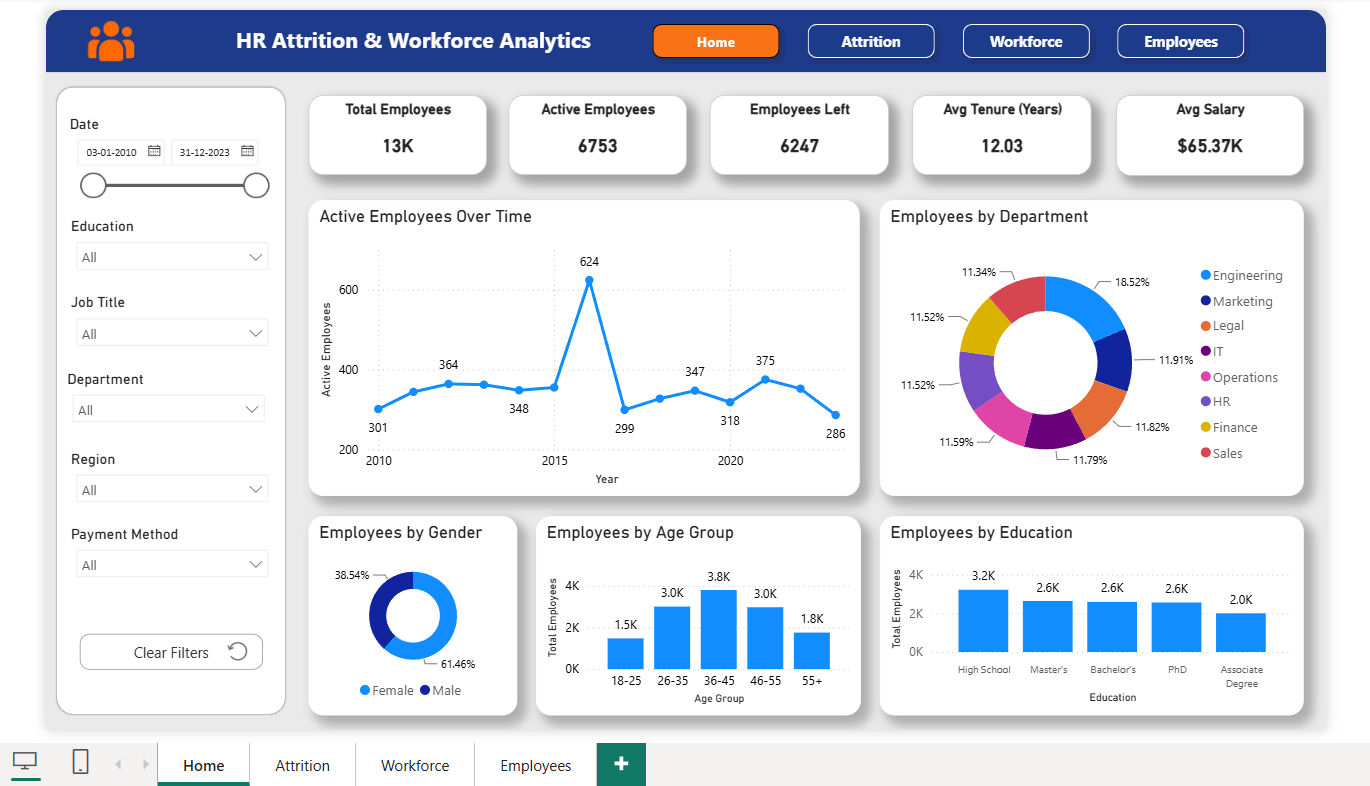

This screenshot's page, from the dashboard's own definition file:
{"tool":"powerbi","page":{"name":" Home","canvas":[1280,720],"ordinal":0},"visuals":[{"type":"shape","box":[0,0,1280,62.5],"z":0},{"type":"image","box":[8.8,7.5,112.5,47.5],"z":1000},{"type":"textbox","box":[165,7.5,423.8,97.5],"z":2000},{"type":"pageNavigator","box":[597.5,5,613.8,52.5],"z":3000},{"type":"shape","box":[8.8,75,232.5,631.2],"z":4000},{"type":"slicer","title":"Date","fields":{"Values":["Dim_Date.Full_Date"]},"box":[19.3,105,212.5,86.2],"z":5000},{"type":"slicer","title":"Education","fields":{"Values":["Dim_Education.Education"]},"box":[19.5,207.3,212.5,91.2],"z":6000},{"type":"slicer","title":"Job Title","fields":{"Values":["Dim_Job_Title.Job_Title"]},"box":[19.5,283.8,212.5,91.2],"z":7000},{"type":"slicer","title":"Payment Method","fields":{"Values":["Dim_Payment_Method.Payment_Method"]},"box":[19.5,514.8,212.3,91.7],"z":8000},{"type":"slicer","title":"Region","fields":{"Values":["Dim_Region.Region"]},"box":[19.5,439.7,212.3,91.7],"z":9000},{"type":"card","title":"Total Employees","fields":{"Values":["MeasuresT.Total Employees"]},"box":[263,84.9,178,80],"z":10000},{"type":"card","title":"Active Employees","fields":{"Values":["MeasuresT.Active Employees"]},"box":[461.9,84.9,178,80],"z":11000},{"type":"actionButton","box":[33.4,623.3,183.4,36.2],"z":11000,"group":"g1"},{"type":"card","title":"Employees Left","fields":{"Values":["MeasuresT.Employees Left"]},"box":[663.7,84.9,179,80],"z":12000},{"type":"card","title":"Avg Tenure (Years)","fields":{"Values":["Avg(Fact_Employee_Attrition.Years_At_Company)"]},"box":[866.8,84.9,179,80],"z":13000},{"type":"card","title":"Avg Salary","fields":{"Values":["Avg(Fact_Employee_Attrition.Salary)"]},"box":[1069.9,84.9,187.8,80.7],"z":14000},{"type":"lineChart","title":"Active Employees Over Time","fields":{"Y":["MeasuresT.Active Employees"],"Category":["Dim_Date.Full_Date.Variation.Date Hierarchy.Year","Dim_Date.Full_Date.Variation.Date Hierarchy.Quarter","Dim_Date.Full_Date.Variation.Date Hierarchy.Month","Dim_Date.Full_Date.Variation.Date Hierarchy.Day"]},"box":[263,190.6,551,296.3],"z":15000},{"type":"donutChart","title":"Employees by Department","fields":{"Category":["Dim_Department.Department"],"Y":["MeasuresT.Total Employees"]},"box":[833.4,190.6,424.3,296.3],"z":16000},{"type":"donutChart","title":"Employees by Gender","fields":{"Category":["Dim_Employee.Gender"],"Y":["MeasuresT.Total Employees"]},"box":[263,506.4,208.7,199],"z":17000},{"type":"columnChart","title":"Employees by Age Group","fields":{"Y":["MeasuresT.Total Employees"],"Category":["Dim_Employee.Age Group"]},"box":[489.8,506.7,324.5,199.1],"z":18000},{"type":"clusteredColumnChart","title":"Employees by Education","fields":{"Category":["Dim_Education.Education"],"Y":["MeasuresT.Total Employees"]},"box":[833.4,506.4,424.3,199],"z":19000},{"type":"group","id":"g1","title":"Group 1","box":[33.4,623.3,197.6,36.2],"z":20000},{"type":"slicer","title":"Department","fields":{"Values":["Dim_Department.Department"]},"box":[16.7,360.3,212.5,91.2],"z":21000},{"type":"image","box":[149.2,630.5,82,20],"z":21000,"group":"g1"}]}

Visuals, with their boxes on the page's 1280x720 design canvas (x1, y1, x2, y2). These are canvas units, not pixel positions in the 1370x786 screenshot, which may show the page scaled, cropped or inside an application window:
shape: (left=0, top=0, right=1280, bottom=62)
image: (left=9, top=8, right=121, bottom=55)
textbox: (left=165, top=8, right=589, bottom=105)
pageNavigator: (left=598, top=5, right=1211, bottom=58)
shape: (left=9, top=75, right=241, bottom=706)
"Date" slicer: (left=19, top=105, right=232, bottom=191)
"Education" slicer: (left=20, top=207, right=232, bottom=298)
"Job Title" slicer: (left=20, top=284, right=232, bottom=375)
"Payment Method" slicer: (left=20, top=515, right=232, bottom=606)
"Region" slicer: (left=20, top=440, right=232, bottom=531)
"Total Employees" card: (left=263, top=85, right=441, bottom=165)
"Active Employees" card: (left=462, top=85, right=640, bottom=165)
actionButton: (left=33, top=623, right=217, bottom=660)
"Employees Left" card: (left=664, top=85, right=843, bottom=165)
"Avg Tenure (Years)" card: (left=867, top=85, right=1046, bottom=165)
"Avg Salary" card: (left=1070, top=85, right=1258, bottom=166)
"Active Employees Over Time" lineChart: (left=263, top=191, right=814, bottom=487)
"Employees by Department" donutChart: (left=833, top=191, right=1258, bottom=487)
"Employees by Gender" donutChart: (left=263, top=506, right=472, bottom=705)
"Employees by Age Group" columnChart: (left=490, top=507, right=814, bottom=706)
"Employees by Education" clusteredColumnChart: (left=833, top=506, right=1258, bottom=705)
"Group 1" group: (left=33, top=623, right=231, bottom=660)
"Department" slicer: (left=17, top=360, right=229, bottom=452)
image: (left=149, top=630, right=231, bottom=650)
